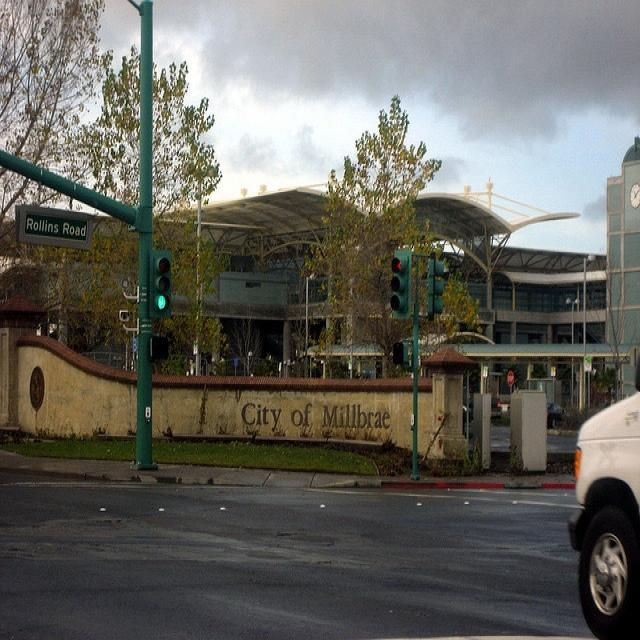car: (568, 386, 639, 638), (489, 396, 500, 417)
pole: (131, 0, 157, 469), (409, 298, 421, 478)
truck: (568, 389, 639, 631)
